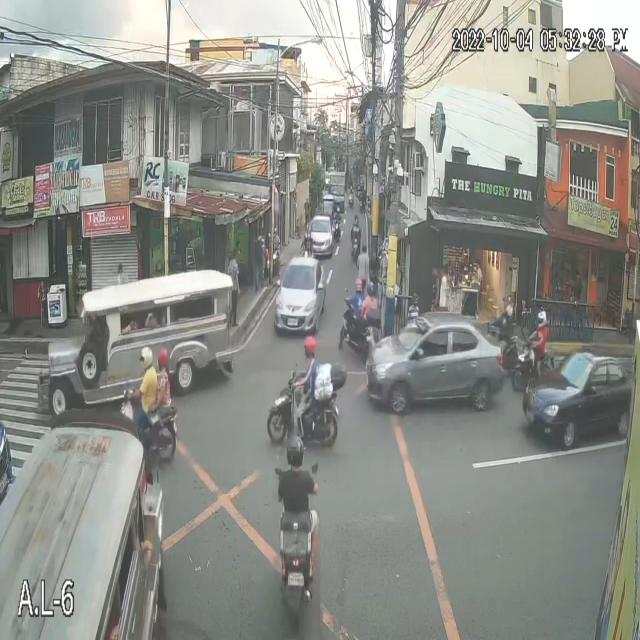Full-Faced: (136, 344, 152, 372), (369, 271, 380, 300), (355, 272, 367, 297), (359, 240, 368, 263), (534, 309, 544, 326), (353, 213, 361, 226), (338, 202, 344, 216)
Half-Faced: (284, 435, 305, 473), (303, 338, 317, 366), (155, 349, 169, 373)
